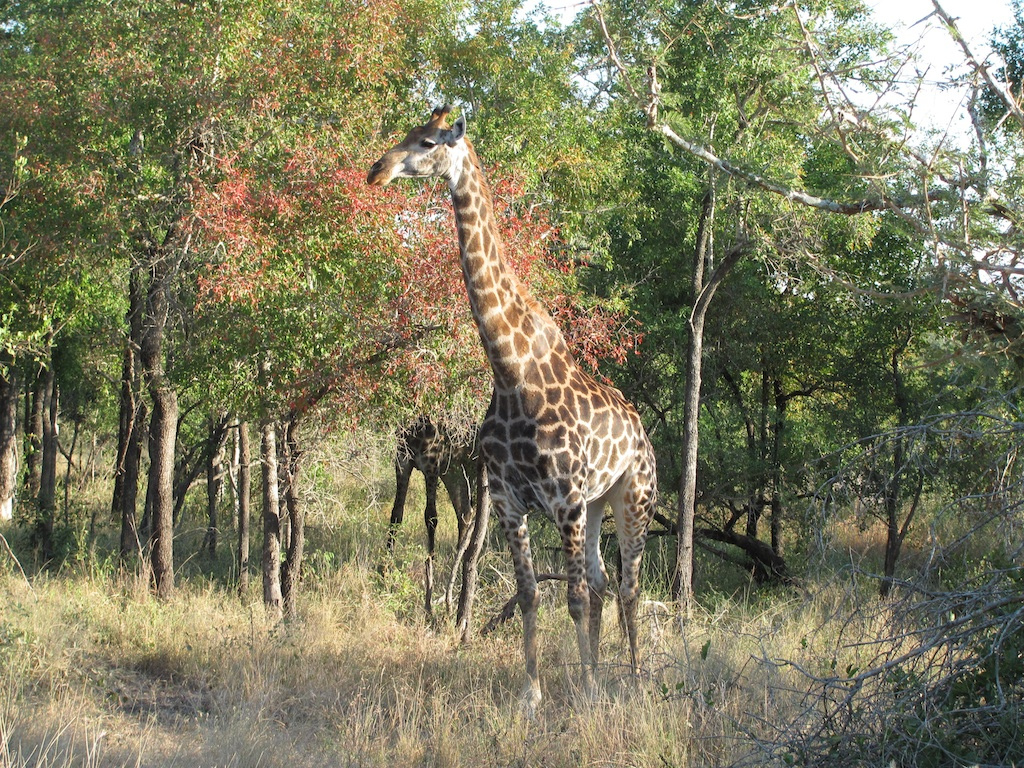giraffe: (350, 92, 719, 712)
